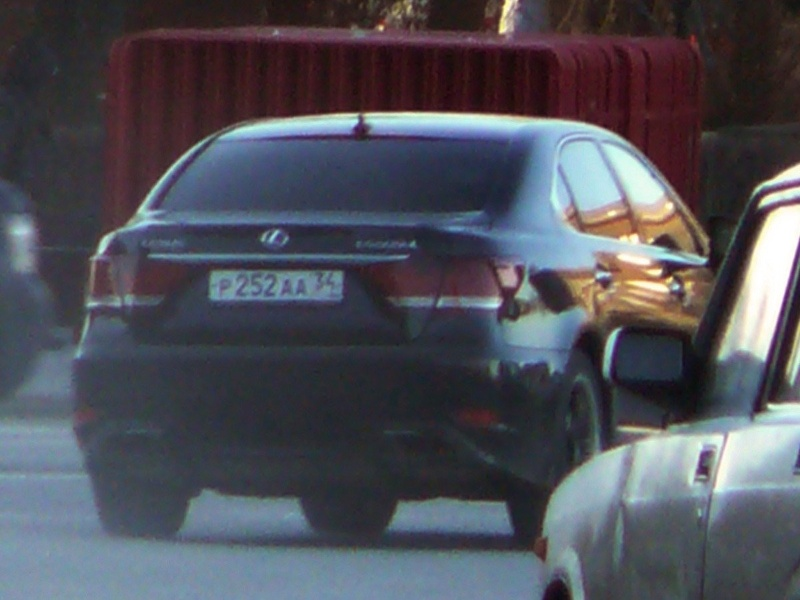car: (68, 108, 718, 534), (535, 163, 800, 600)
plate: (207, 270, 342, 299)
